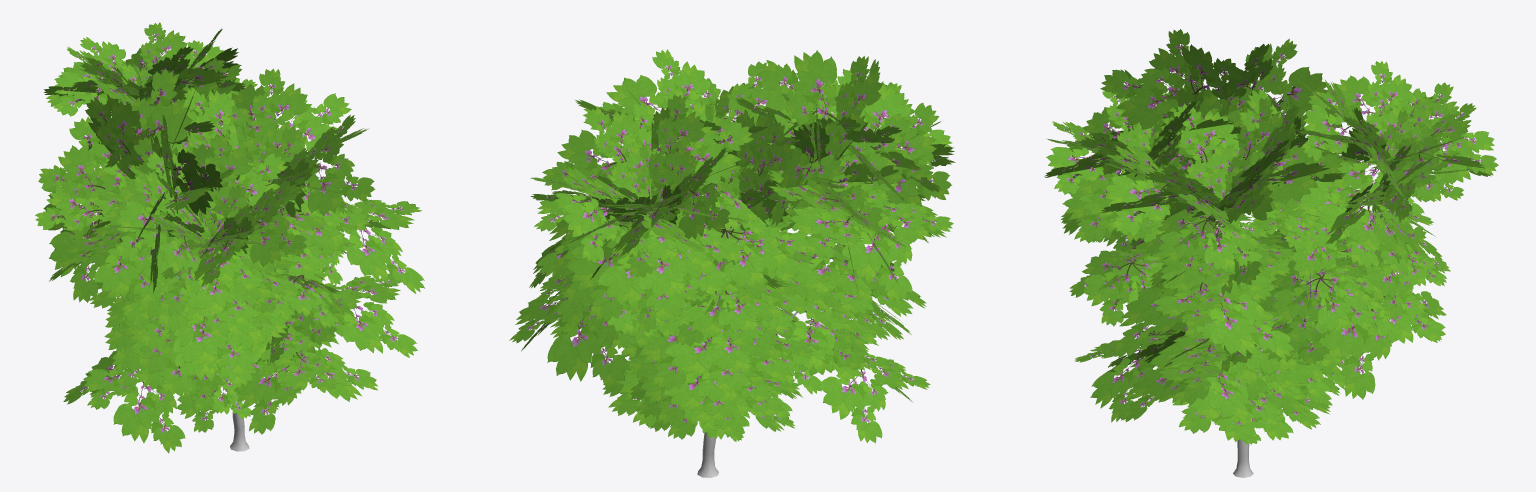
File: CASCO_DE_VACA_LISTO.fbx
The picture shows the model from 3 angles, left to right: view 1: azimuth 30°, elevation 25°; view 2: azimuth 150°, elevation 25°; view 3: azimuth 270°, elevation 25°; orthographic projection. The views are drawn at different scales.
Parts seen in each view (by area): view 1: cascodevaca_LOD0; view 2: cascodevaca_LOD0; view 3: cascodevaca_LOD0.
Part boxes in pixels (x1,y1,x2,y2): cascodevaca_LOD0: (35, 22, 424, 453); cascodevaca_LOD0: (509, 49, 955, 477); cascodevaca_LOD0: (1044, 29, 1498, 477).
Size of what is drawn, in the model's own units: 9.11 by 9.49 by 10.18.
